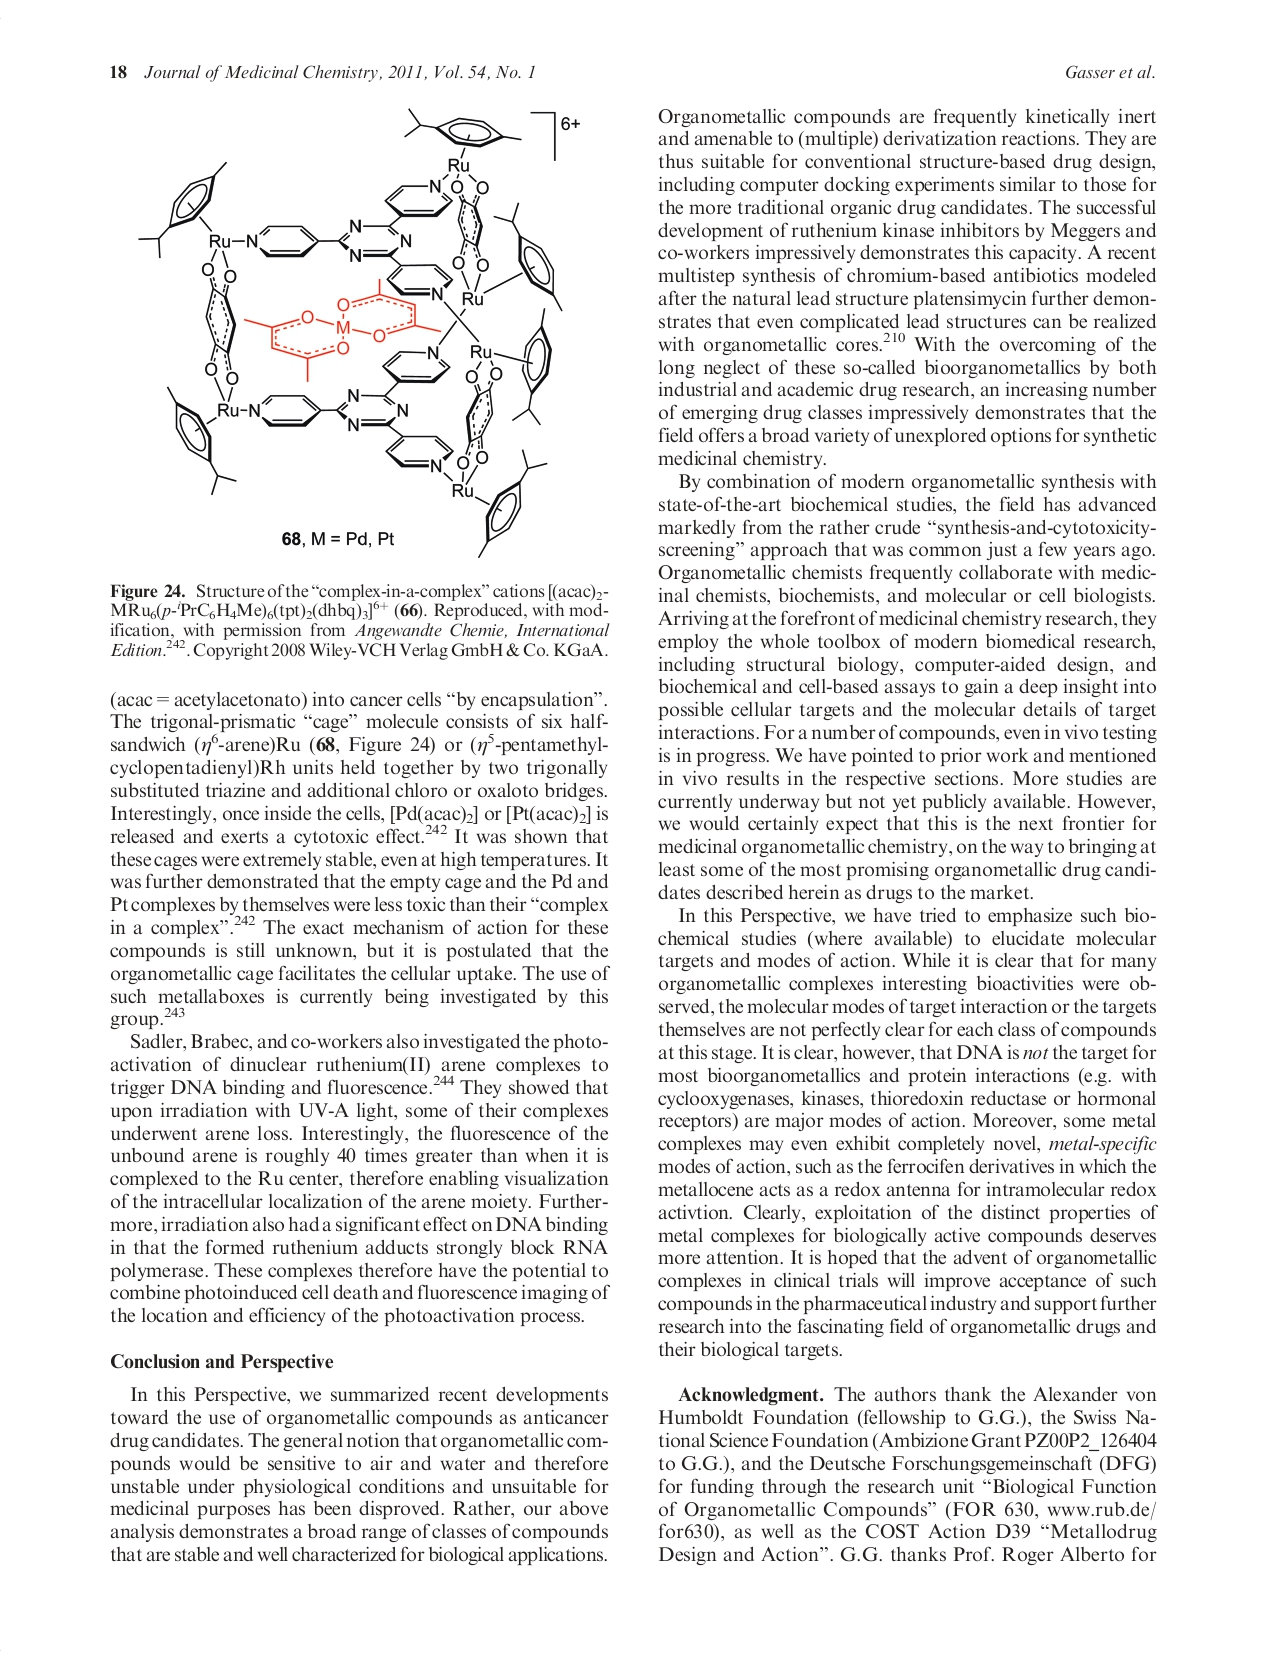exist_molecular: (136, 104, 567, 560)
